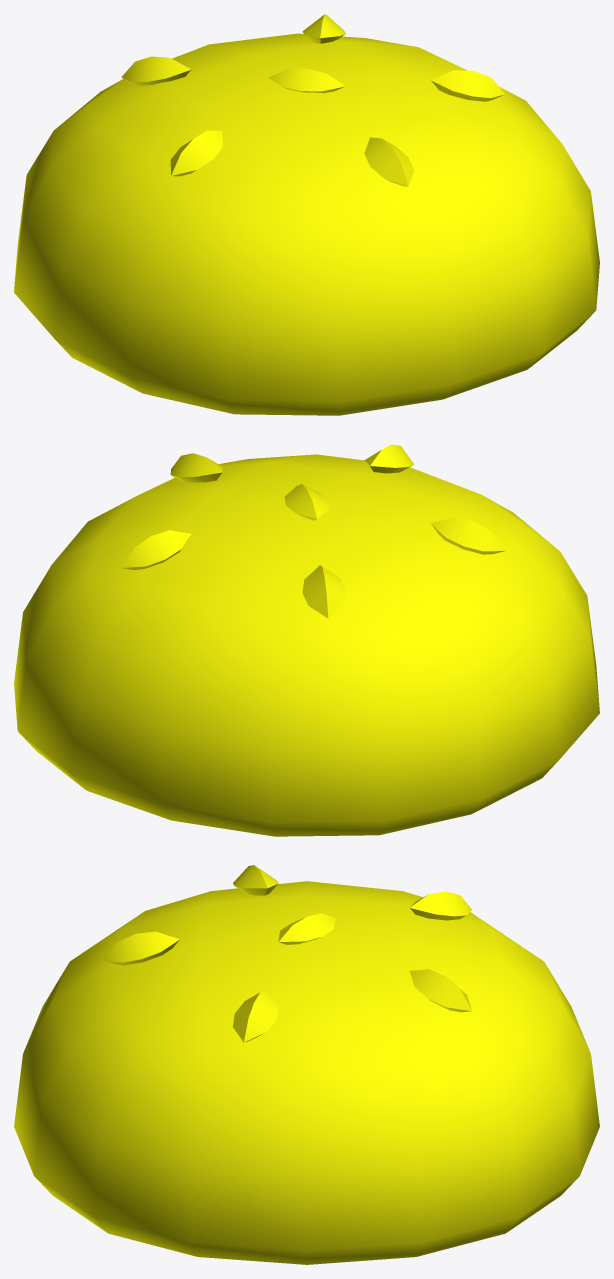
The model's file is kaykit-food-ingredient-bun-top.glb.
The picture shows the model from 3 angles, top to bottom: view 1: azimuth 30°, elevation 25°; view 2: azimuth 150°, elevation 25°; view 3: azimuth 270°, elevation 25°; orthographic projection.
Parts seen in each view (by area): view 1: food_ingredient_bun_top; view 2: food_ingredient_bun_top; view 3: food_ingredient_bun_top.
Part boxes in pixels (left/top/right/bottom): food_ingredient_bun_top: left=14, top=14, right=599, bottom=415; food_ingredient_bun_top: left=14, top=444, right=599, bottom=836; food_ingredient_bun_top: left=14, top=865, right=599, bottom=1264.
Bounding box in the file's own units: 0.7 × 0.3072 × 0.7.
